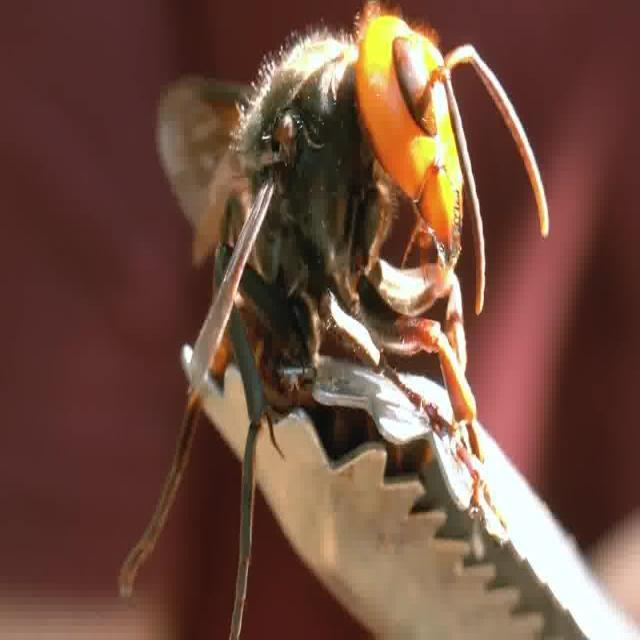Wasp: (130, 0, 548, 561)
